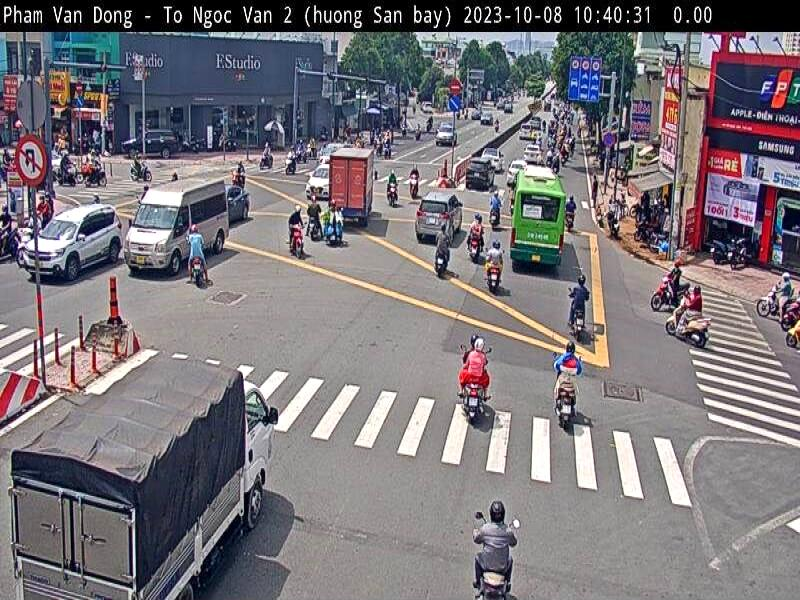bus: (510, 164, 564, 273)
car: (126, 179, 227, 269), (26, 203, 125, 280), (417, 194, 462, 246), (464, 152, 489, 194), (306, 163, 330, 200)
motorcycle: (665, 301, 712, 350), (650, 272, 690, 312), (474, 565, 512, 600), (552, 390, 578, 433), (457, 386, 486, 423)
truck: (9, 355, 272, 600), (326, 143, 374, 228)
